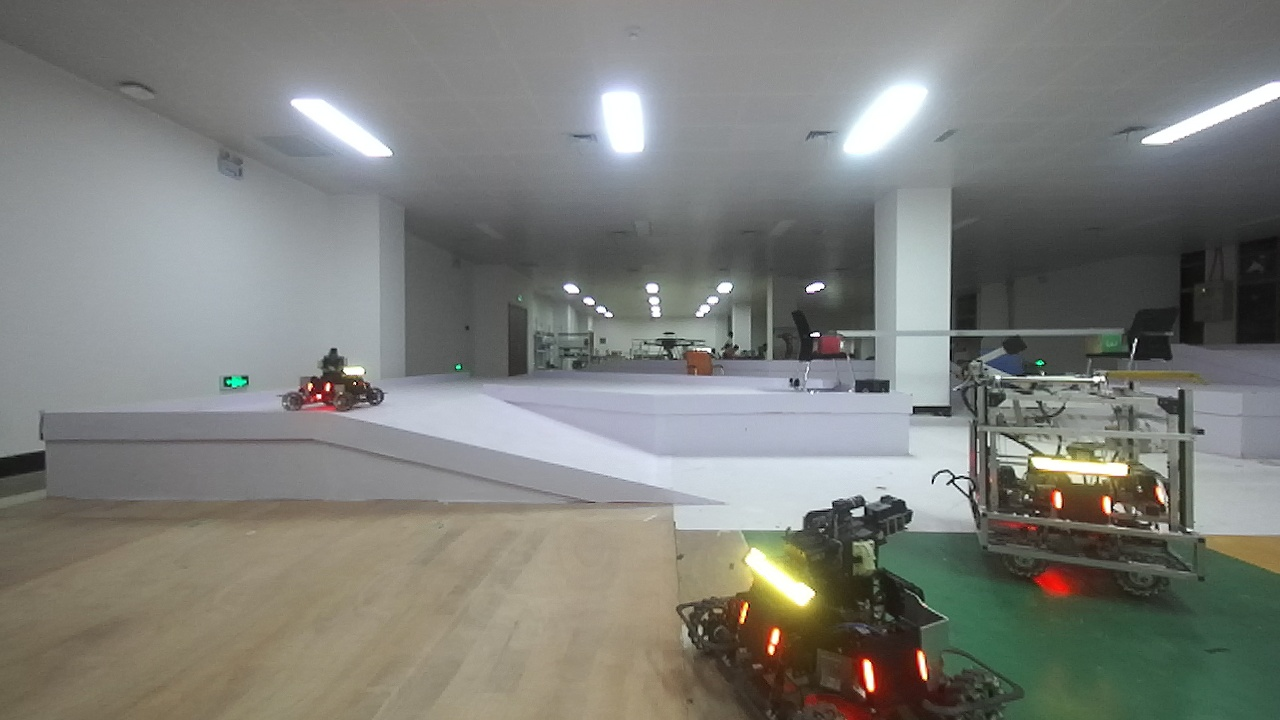car: (679, 510, 1022, 720), (953, 338, 1218, 604), (270, 339, 414, 434)
